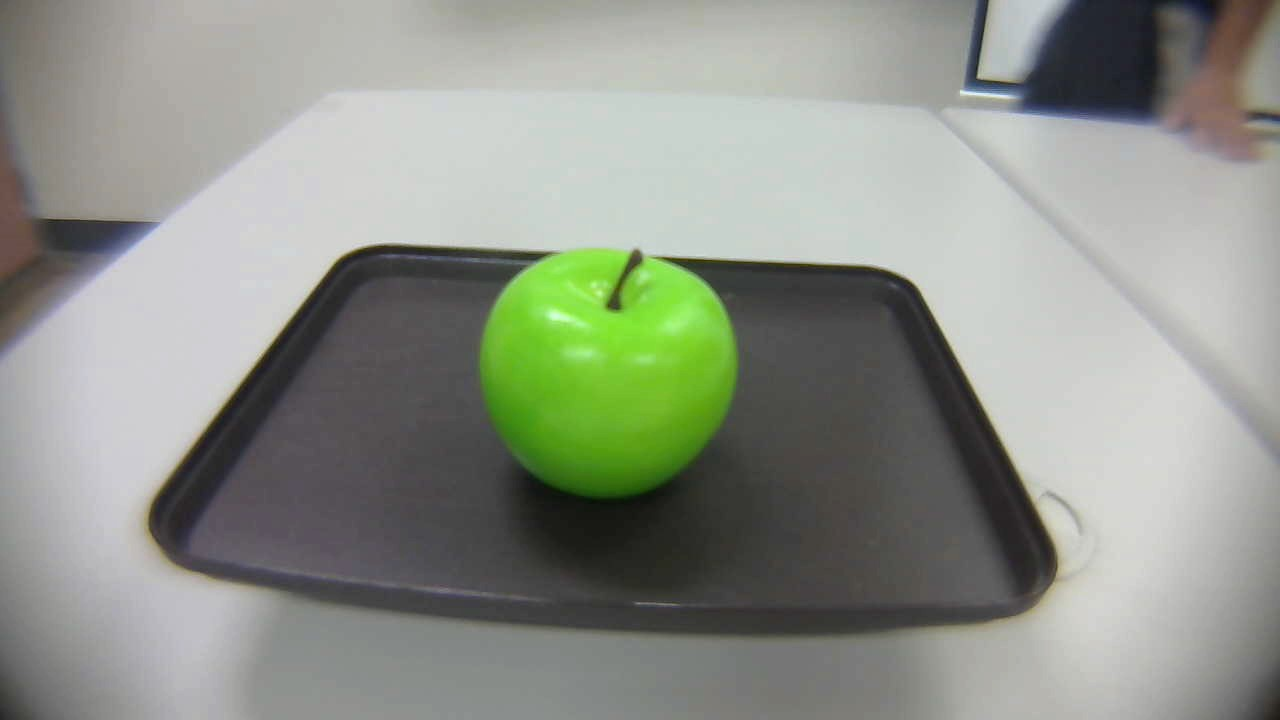green apple: (476, 250, 741, 503)
